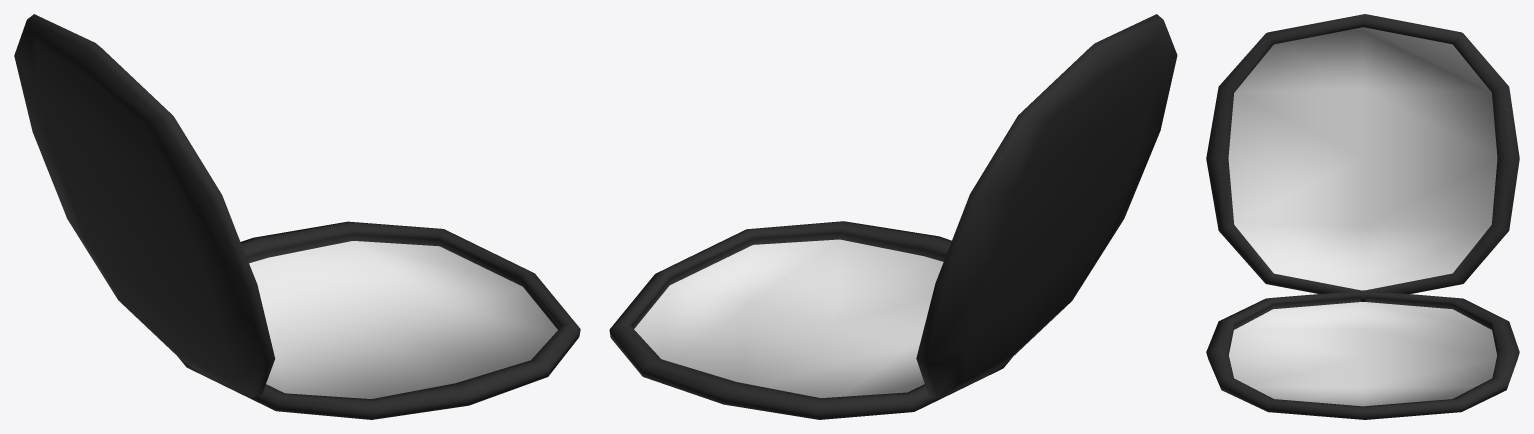
The model's file is Espejo.fbx.
3 views of the same model, side by side, from view 1: azimuth 30°, elevation 25°; view 2: azimuth 150°, elevation 25°; view 3: azimuth 270°, elevation 25° (orthographic). The views are drawn at different scales.
Parts seen in each view (by area): view 1: Espejo_01.001; view 2: Espejo_01.001; view 3: Espejo_01.001.
Boxes of the visible parts, x1=… form: Espejo_01.001: x1=14, y1=14, x2=580, y2=419; Espejo_01.001: x1=609, y1=14, x2=1177, y2=419; Espejo_01.001: x1=1206, y1=14, x2=1519, y2=419.
Size of the model in its own units: 182 by 141 by 153.
